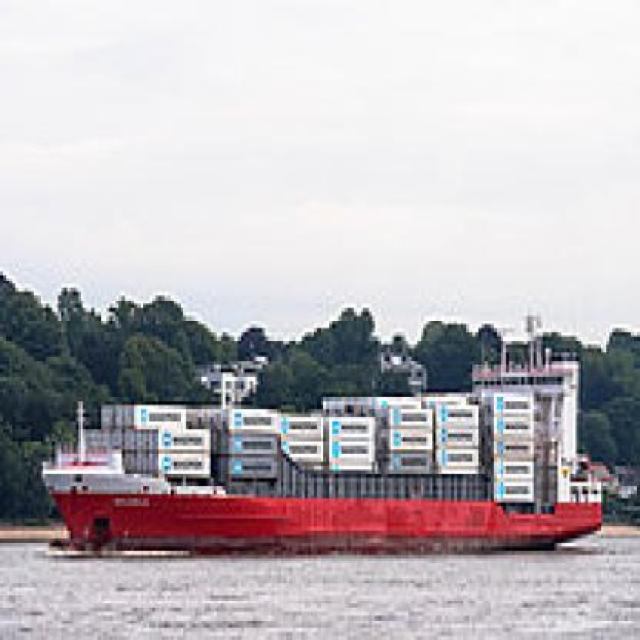container: (31, 333, 617, 573)
